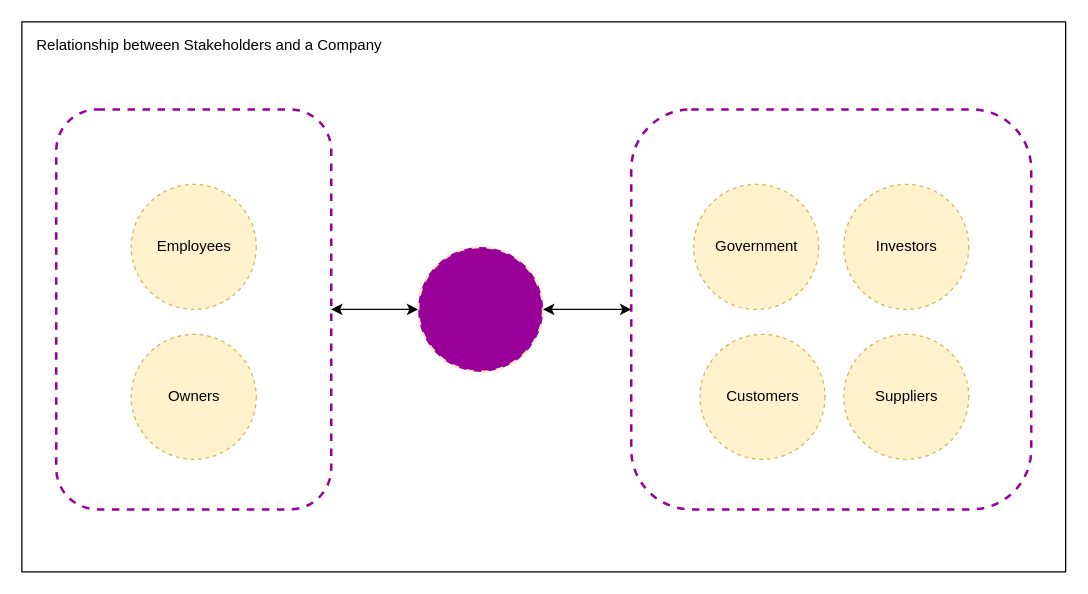
The diagram is 1088 pixels wide and 594 high, and some of its shapes have lost their labels. Here are the shapes that lost their labels. From the top down, the box of each, then its label:
(54, 108, 332, 510): Internal Stakeholders
(416, 245, 544, 372): Company
(629, 108, 1032, 510): External Stakeholders
